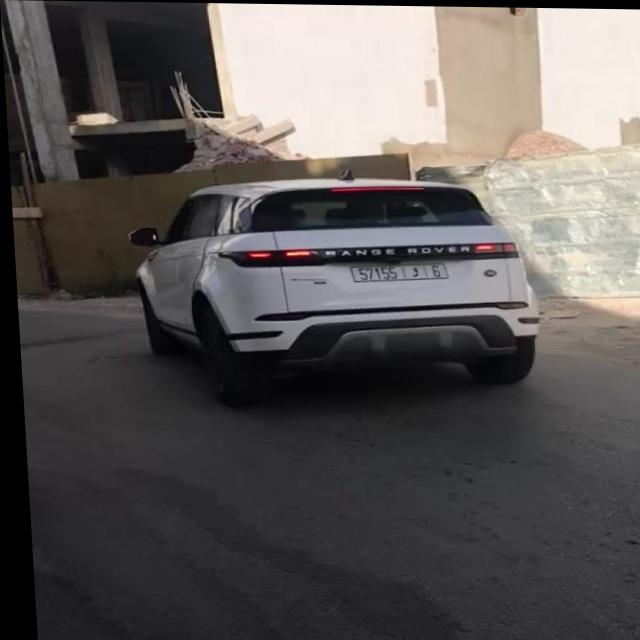License-Plate: (351, 264, 442, 281)
